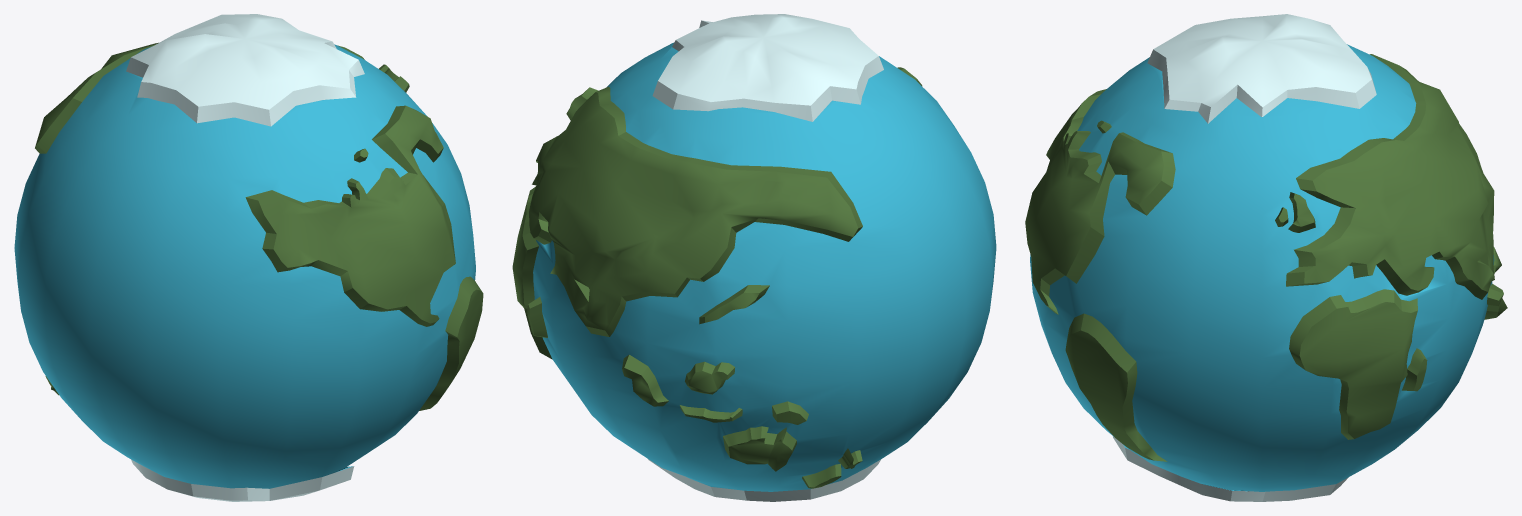
File: Earth.fbx
The picture shows the model from 3 angles, left to right: view 1: azimuth 30°, elevation 25°; view 2: azimuth 150°, elevation 25°; view 3: azimuth 270°, elevation 25°; orthographic projection.
Parts seen in each view (by area): view 1: polySurface21, polySurface9, polySurface20; view 2: polySurface21, polySurface9, polySurface20; view 3: polySurface21, polySurface9, polySurface20.
Part boxes in pixels (box(x1,y1,x2,y2)): polySurface21: box(14, 44, 475, 488); polySurface9: box(35, 42, 483, 410); polySurface20: box(126, 14, 364, 501); polySurface21: box(533, 42, 996, 491); polySurface9: box(512, 67, 922, 488); polySurface20: box(648, 14, 883, 501); polySurface21: box(1030, 44, 1494, 491); polySurface9: box(1025, 54, 1507, 461); polySurface20: box(1113, 14, 1376, 501).
Size of the model in its own units: 9.92 by 10.3 by 10.18.
